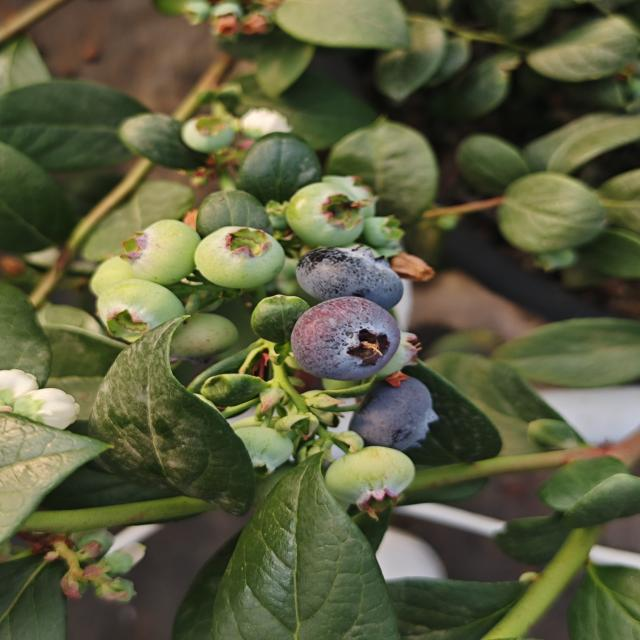ripe: (278, 286, 400, 380), (272, 234, 416, 311), (371, 374, 443, 446)
